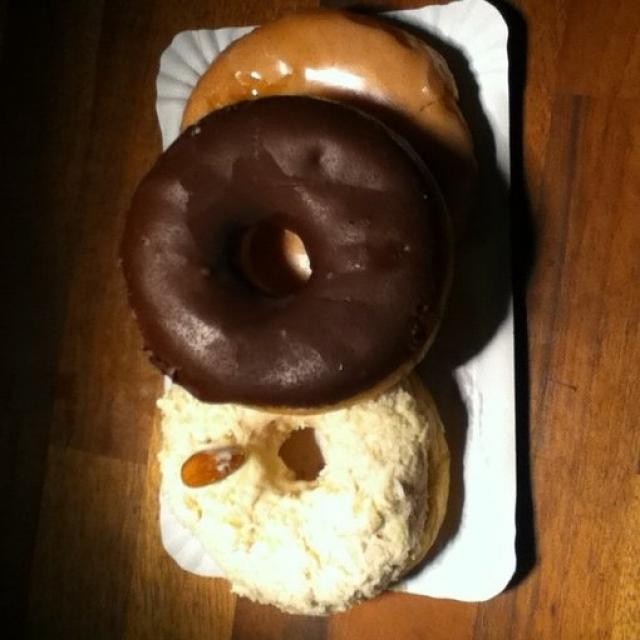Donuts: (84, 13, 532, 619)
